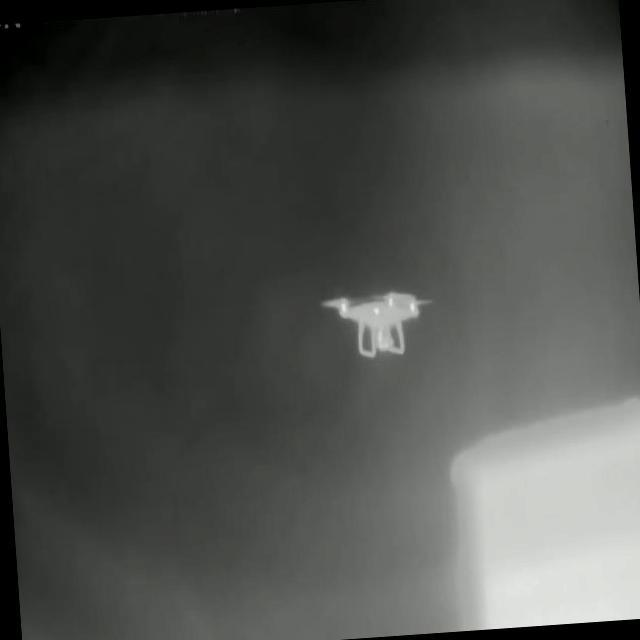DRONE: (319, 286, 432, 359)
